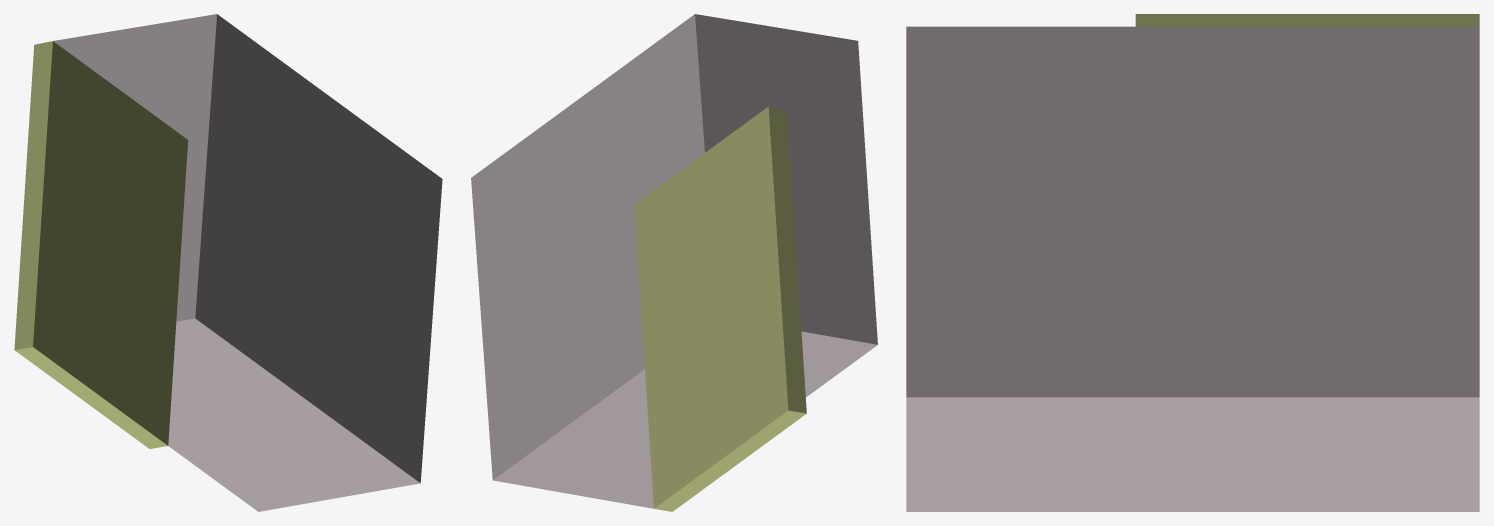
3 renders of one model, left to right at view 1: azimuth 30°, elevation 25°; view 2: azimuth 150°, elevation 25°; view 3: azimuth 270°, elevation 25°, orthographic. The views are drawn at different scales.
Visible parts, largest first — view 1: 0_2_1_3_0_3_0_1_2_2_1; view 2: 0_2_1_3_0_3_0_1_2_2_1; view 3: 0_2_1_3_0_3_0_1_2_2_1.
Part boxes in pixels (x1,y1,x2,y2): 0_2_1_3_0_3_0_1_2_2_1: [14, 14, 442, 511]; 0_2_1_3_0_3_0_1_2_2_1: [471, 14, 877, 511]; 0_2_1_3_0_3_0_1_2_2_1: [906, 14, 1479, 511].
Bounding box in the file's own units: 7.79 × 11.49 × 15.
